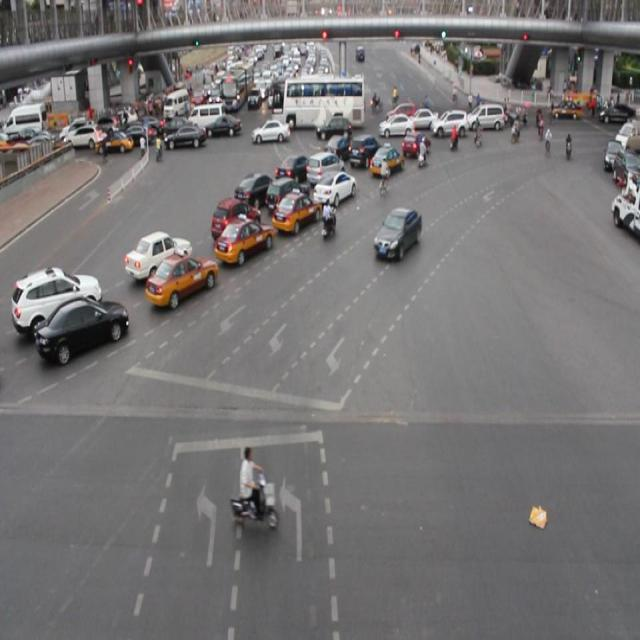car: (13, 263, 102, 326), (38, 297, 128, 351), (146, 252, 218, 299), (124, 230, 192, 276), (374, 206, 420, 260), (215, 217, 273, 258), (211, 196, 261, 242), (272, 191, 318, 227), (265, 177, 308, 213), (311, 171, 355, 204), (306, 150, 344, 185), (235, 172, 276, 204), (347, 132, 381, 169), (368, 142, 403, 173), (276, 153, 312, 182), (322, 133, 356, 161), (400, 129, 429, 158)
